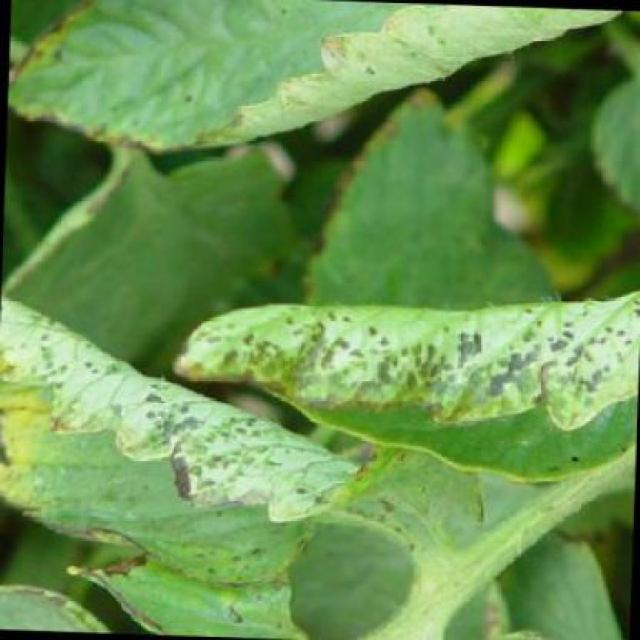Tomato leaf bacterial spot: (0, 274, 374, 588), (166, 235, 640, 452)
